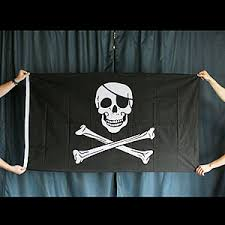Jolly Roger Flag: (23, 69, 202, 178)
